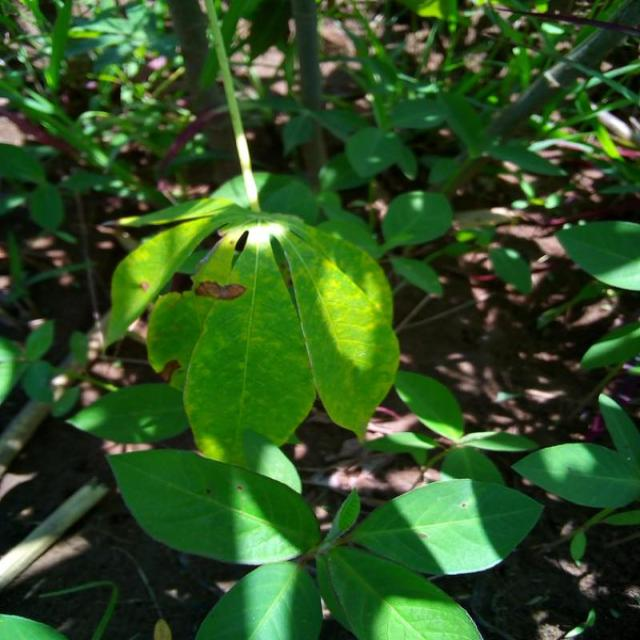cassava leaf: (145, 210, 400, 473), (103, 446, 321, 565), (348, 476, 544, 577), (194, 560, 322, 639), (554, 218, 639, 292)
